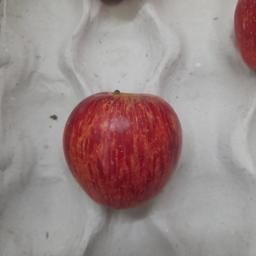Apple Fresh: (57, 86, 189, 211)
